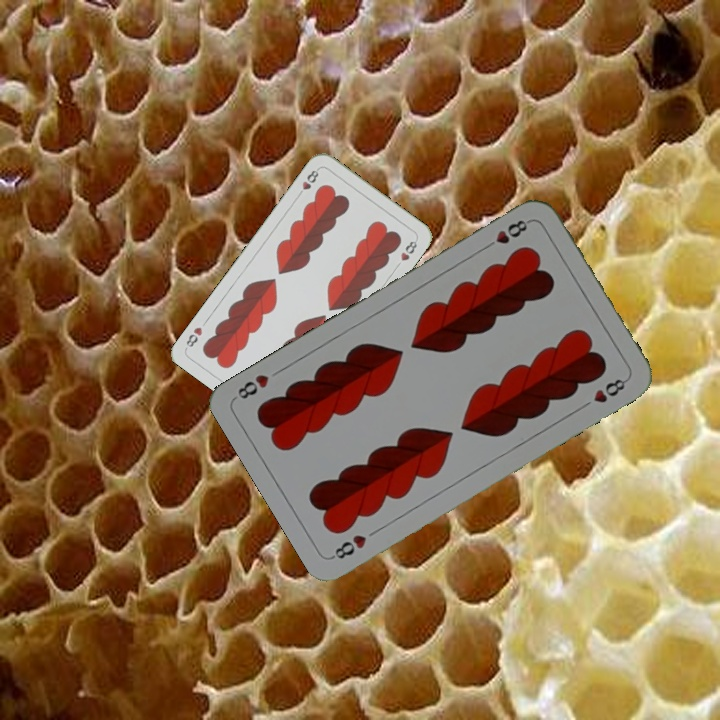H8: (480, 215, 533, 252), (328, 530, 369, 562), (293, 164, 322, 200)
